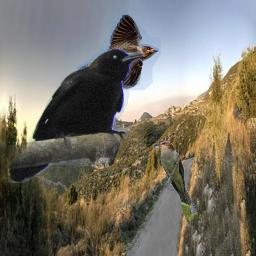Crow: (8, 49, 144, 183)
Cuckoo: (153, 141, 198, 227)
Swallow: (77, 13, 161, 90)
